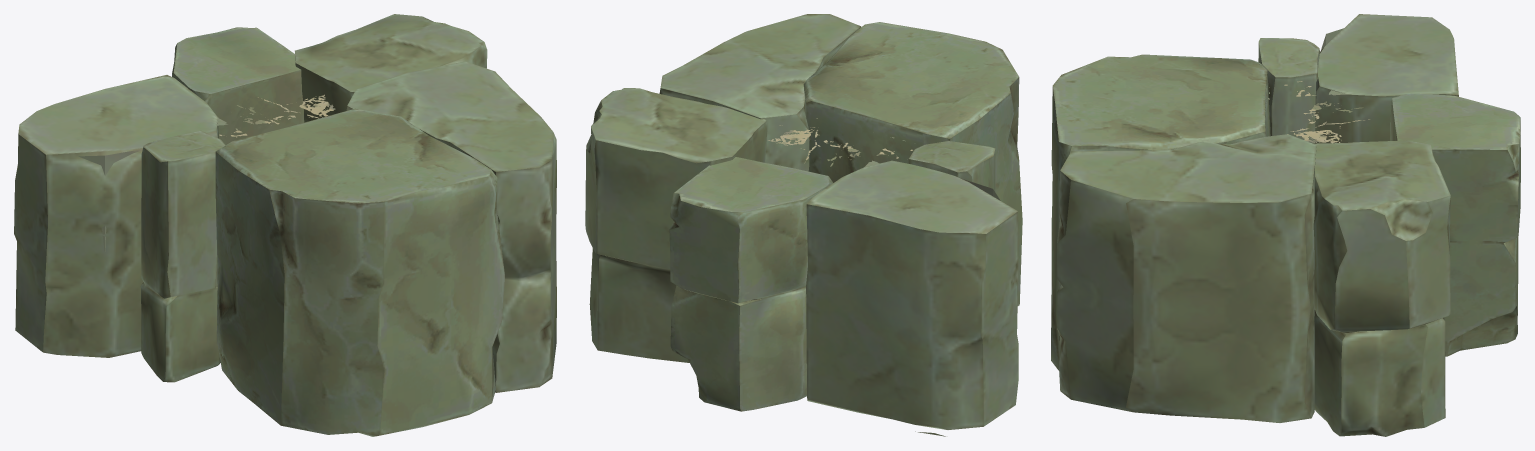
The model's file is Ruins_Wall_DMG_Top_Cnr_L_A.fbx.
3 renders of one model, left to right at view 1: azimuth 30°, elevation 25°; view 2: azimuth 150°, elevation 25°; view 3: azimuth 270°, elevation 25°, orthographic. The views are drawn at different scales.
Parts seen in each view (by area): view 1: Ruins_Wall_DMG_Top_Cnr_L_A; view 2: Ruins_Wall_DMG_Top_Cnr_L_A; view 3: Ruins_Wall_DMG_Top_Cnr_L_A.
Boxes of the visible parts, x1,y1,x2,y2 form: Ruins_Wall_DMG_Top_Cnr_L_A: (14,14,556,436); Ruins_Wall_DMG_Top_Cnr_L_A: (585,14,1022,436); Ruins_Wall_DMG_Top_Cnr_L_A: (1051,14,1520,436).
Bounding box in the file's own units: 569 × 297 × 533.
